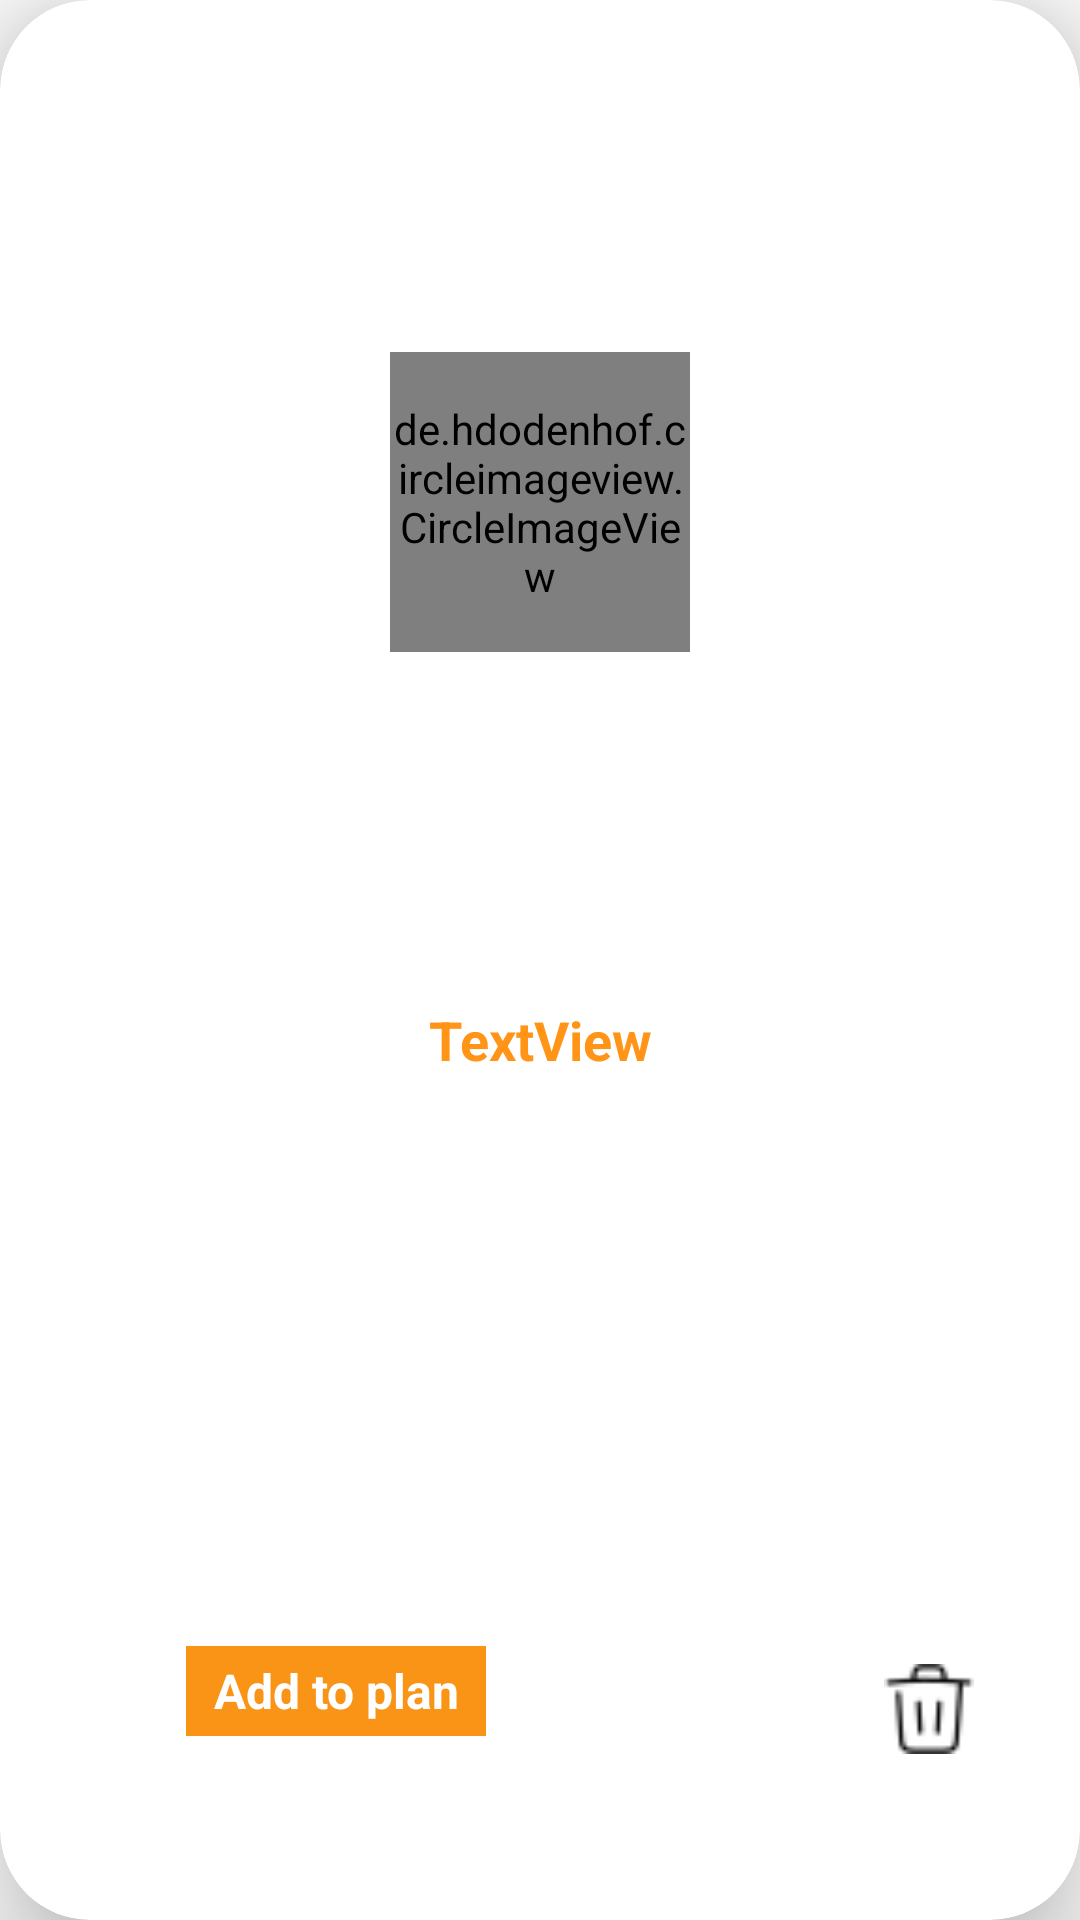

Locate icon controls on the screen. Image size 1080 × 1920, boxes as [left=x1, top=y1, right=x2, bottom=y2].
delete: [left=884, top=1664, right=974, bottom=1754]
